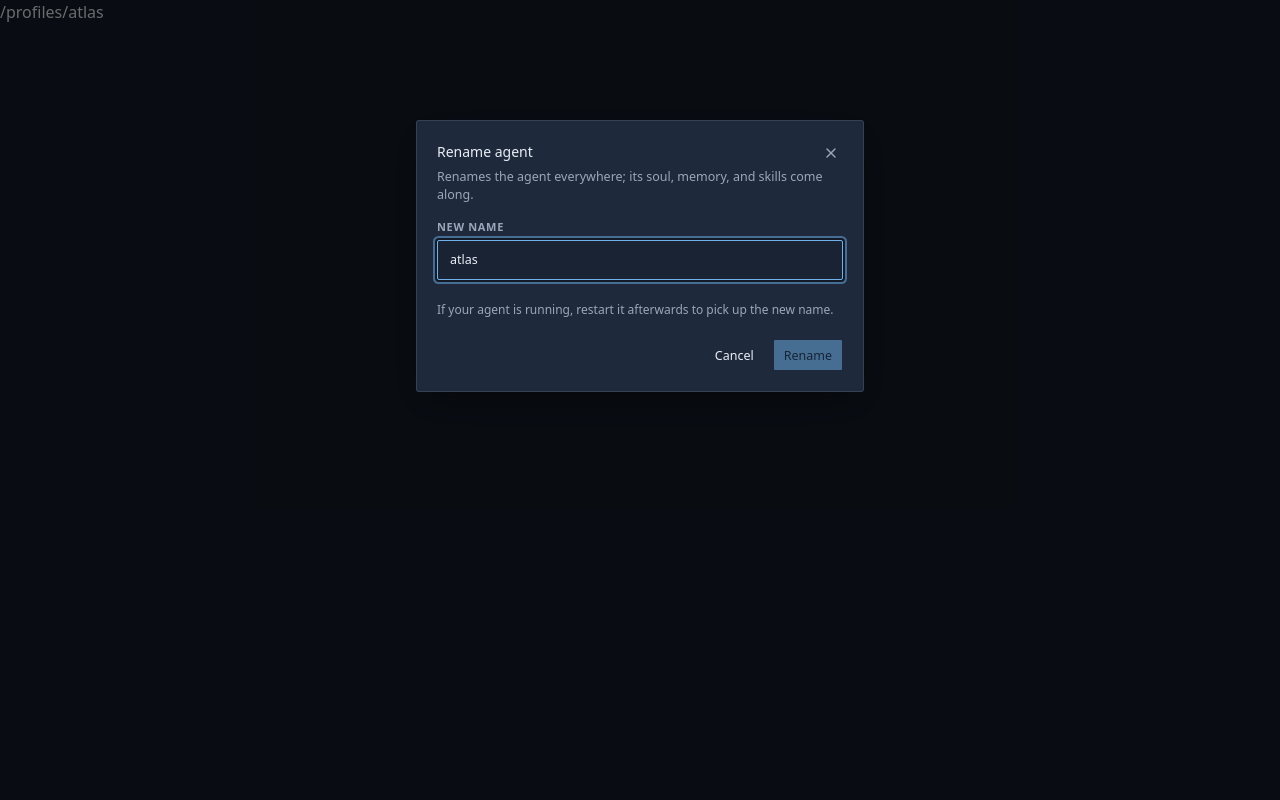
Scenario: RenameAgentDialog › renames, then shows the loud applied card with a browser restart before navigation
Replace the text in the field labelled "New name" with "mercury" at (640, 260), box [437,240,843,280]
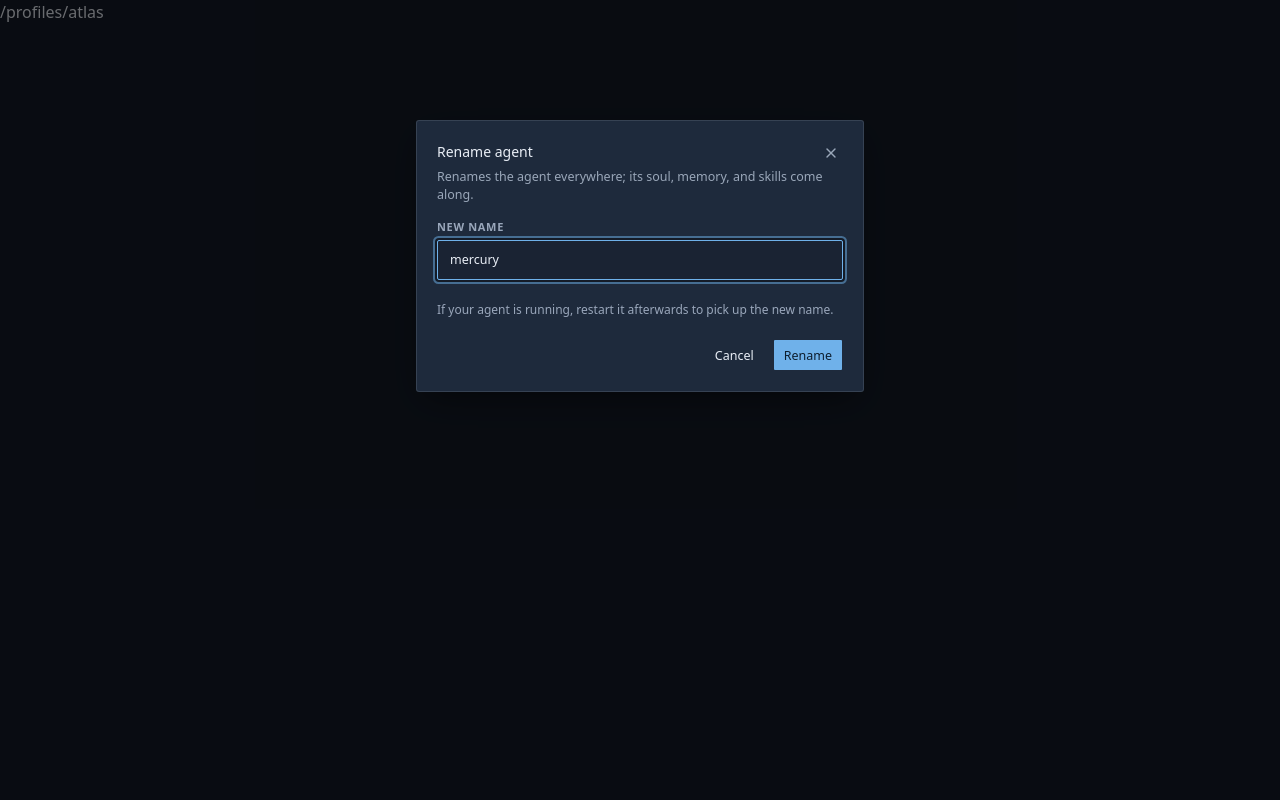
Click the button "Rename" at (808, 356), box [773,340,843,372]
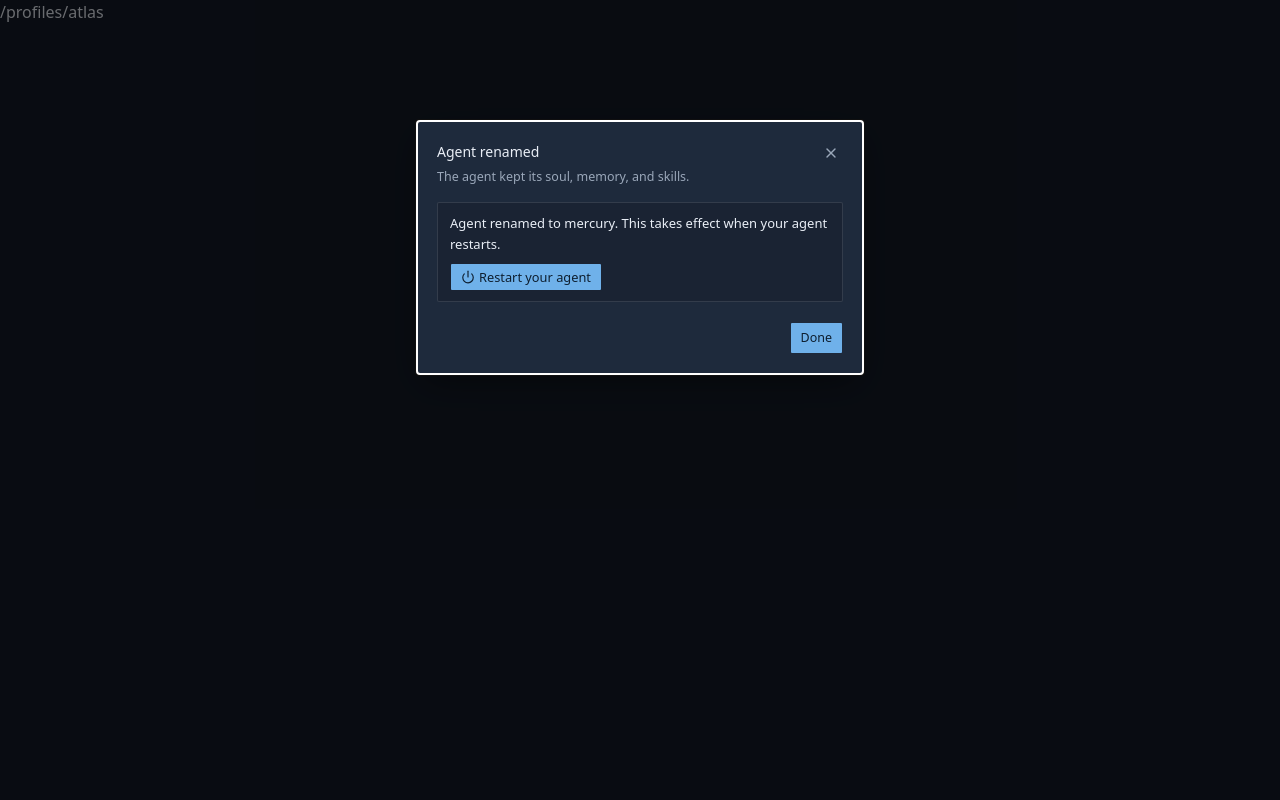
Expected: the text with test id "location" reads "/profiles/atlas", [0,1,104,23]
Expected: the message shows "Agent renamed to mercury. This takes effect when your agent restarts.", [450,214,827,253]
Expected: the button "Restart your agent" is shown, [450,263,602,291]
